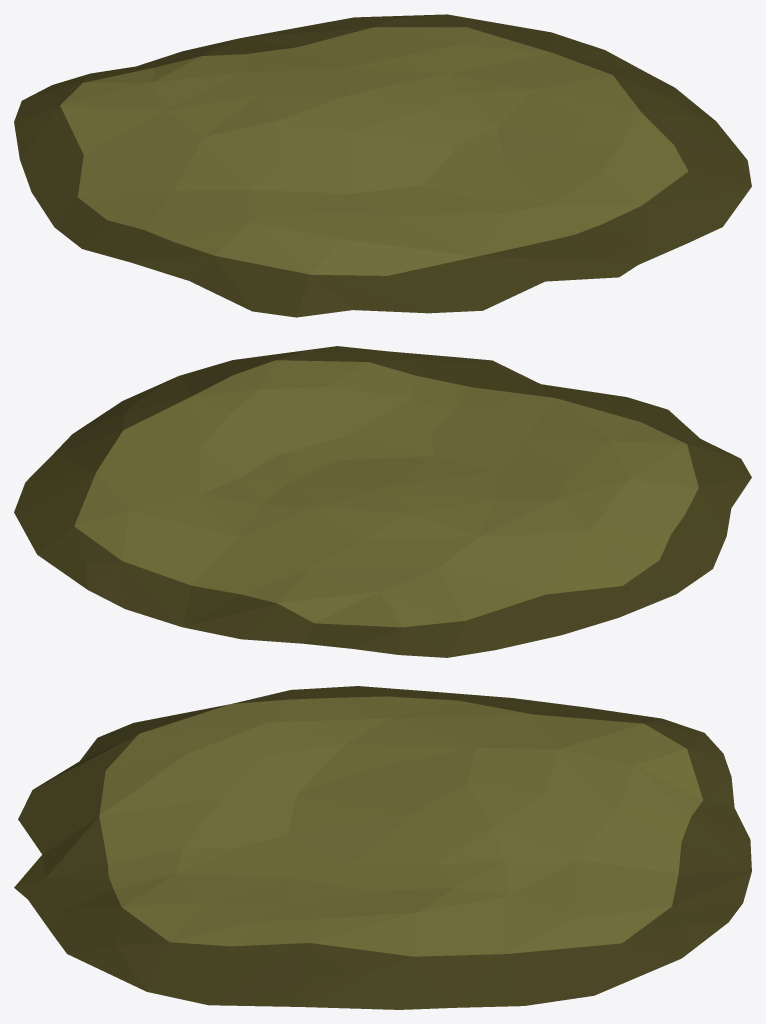
Rendered from EA_M_Env_Grass_01a.fbx.
The picture shows the model from 3 angles, top to bottom: view 1: azimuth 30°, elevation 25°; view 2: azimuth 150°, elevation 25°; view 3: azimuth 270°, elevation 25°; orthographic projection. The views are drawn at different scales.
Parts seen in each view (by area): view 1: EA_M_Env_Grass_01a_LOD0; view 2: EA_M_Env_Grass_01a_LOD0; view 3: EA_M_Env_Grass_01a_LOD0.
Boxes of the visible parts, x1=… form: EA_M_Env_Grass_01a_LOD0: x1=14, y1=14, x2=751, y2=317; EA_M_Env_Grass_01a_LOD0: x1=14, y1=346, x2=751, y2=657; EA_M_Env_Grass_01a_LOD0: x1=14, y1=686, x2=751, y2=1009.
Size of what is drawn, in the model's own units: 7.17 by 0.418 by 6.95.
